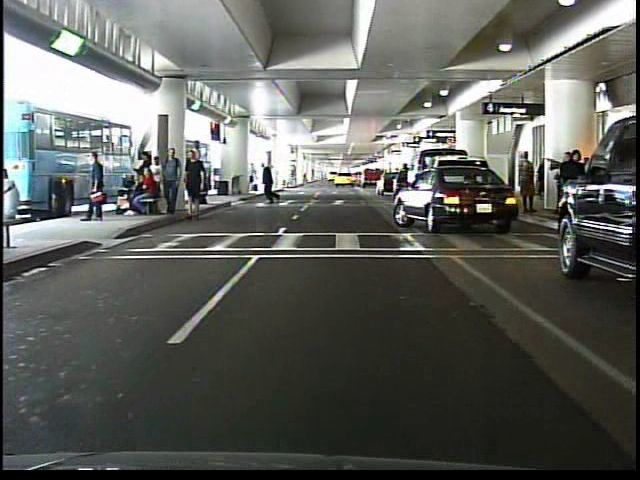person: (81, 145, 113, 233), (519, 150, 537, 215), (263, 161, 287, 207)
